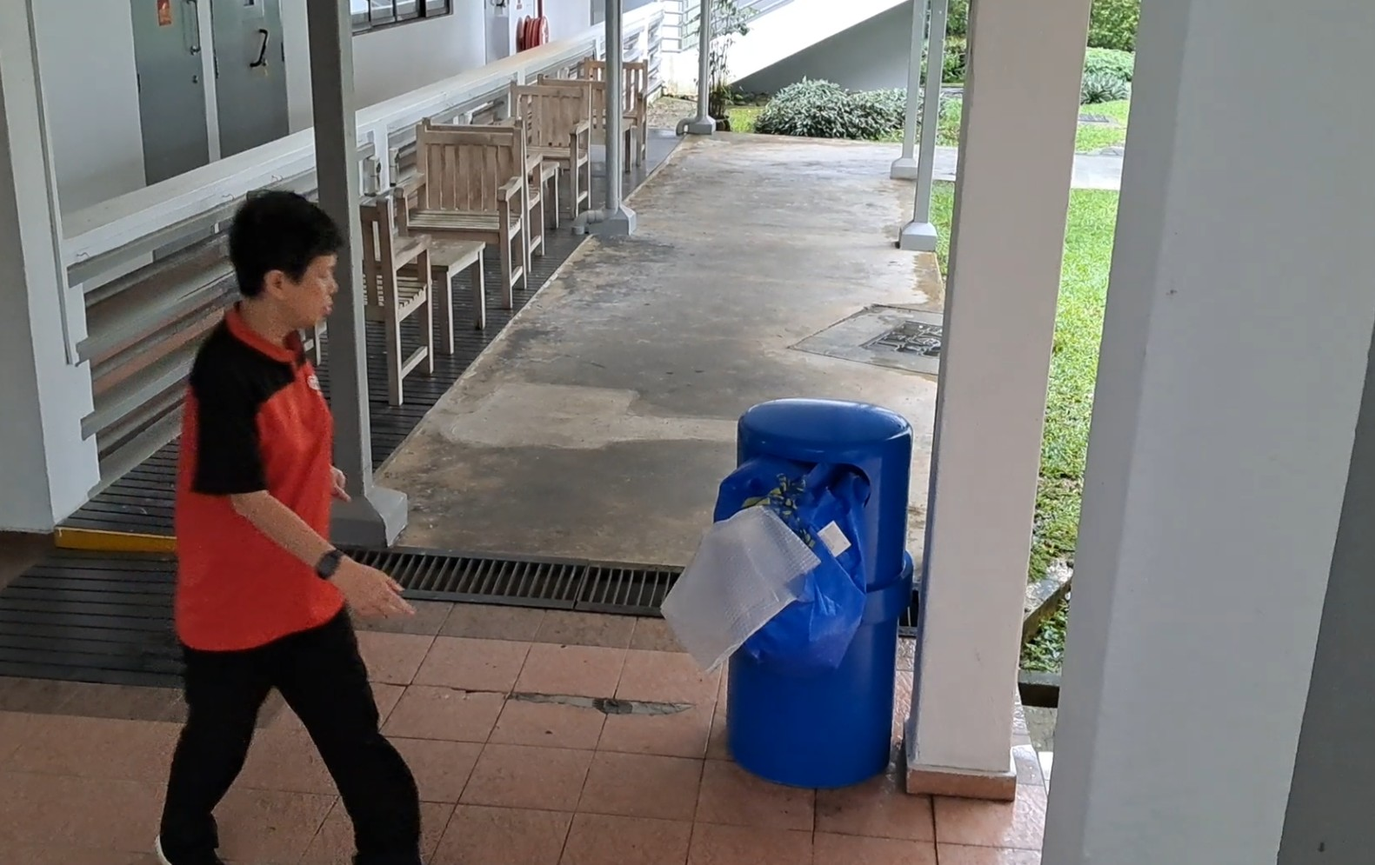bin_full: (664, 398, 913, 786)
